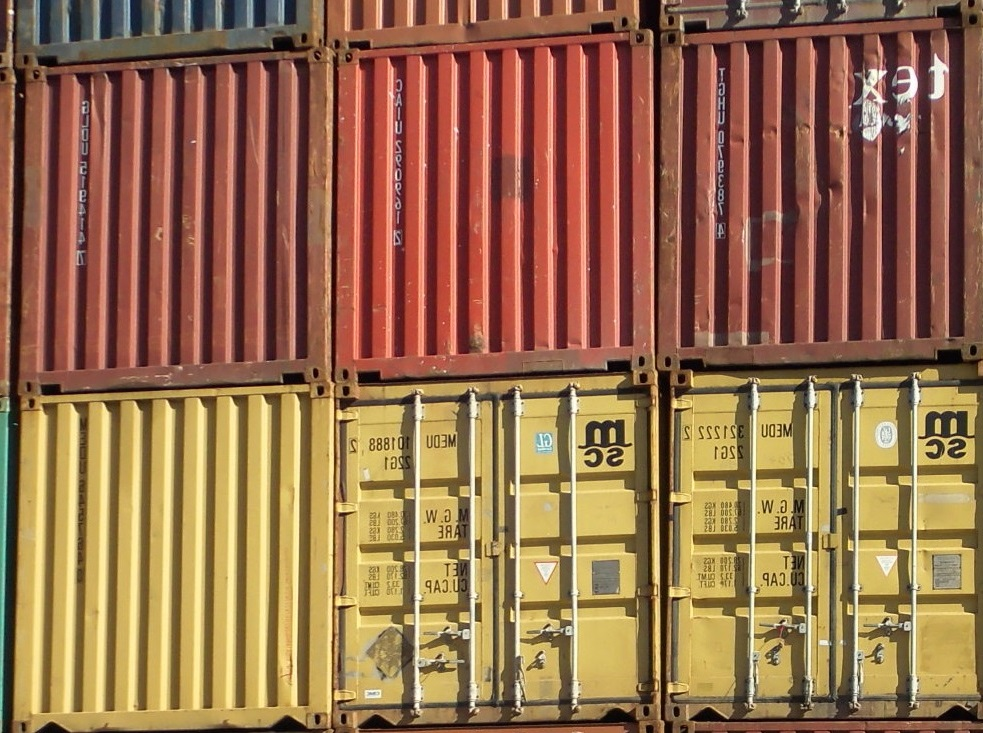container_door: (648, 371, 983, 713), (330, 377, 664, 719)
container_no_door: (335, 27, 658, 387), (7, 373, 330, 733), (659, 13, 982, 372), (20, 53, 330, 396)
